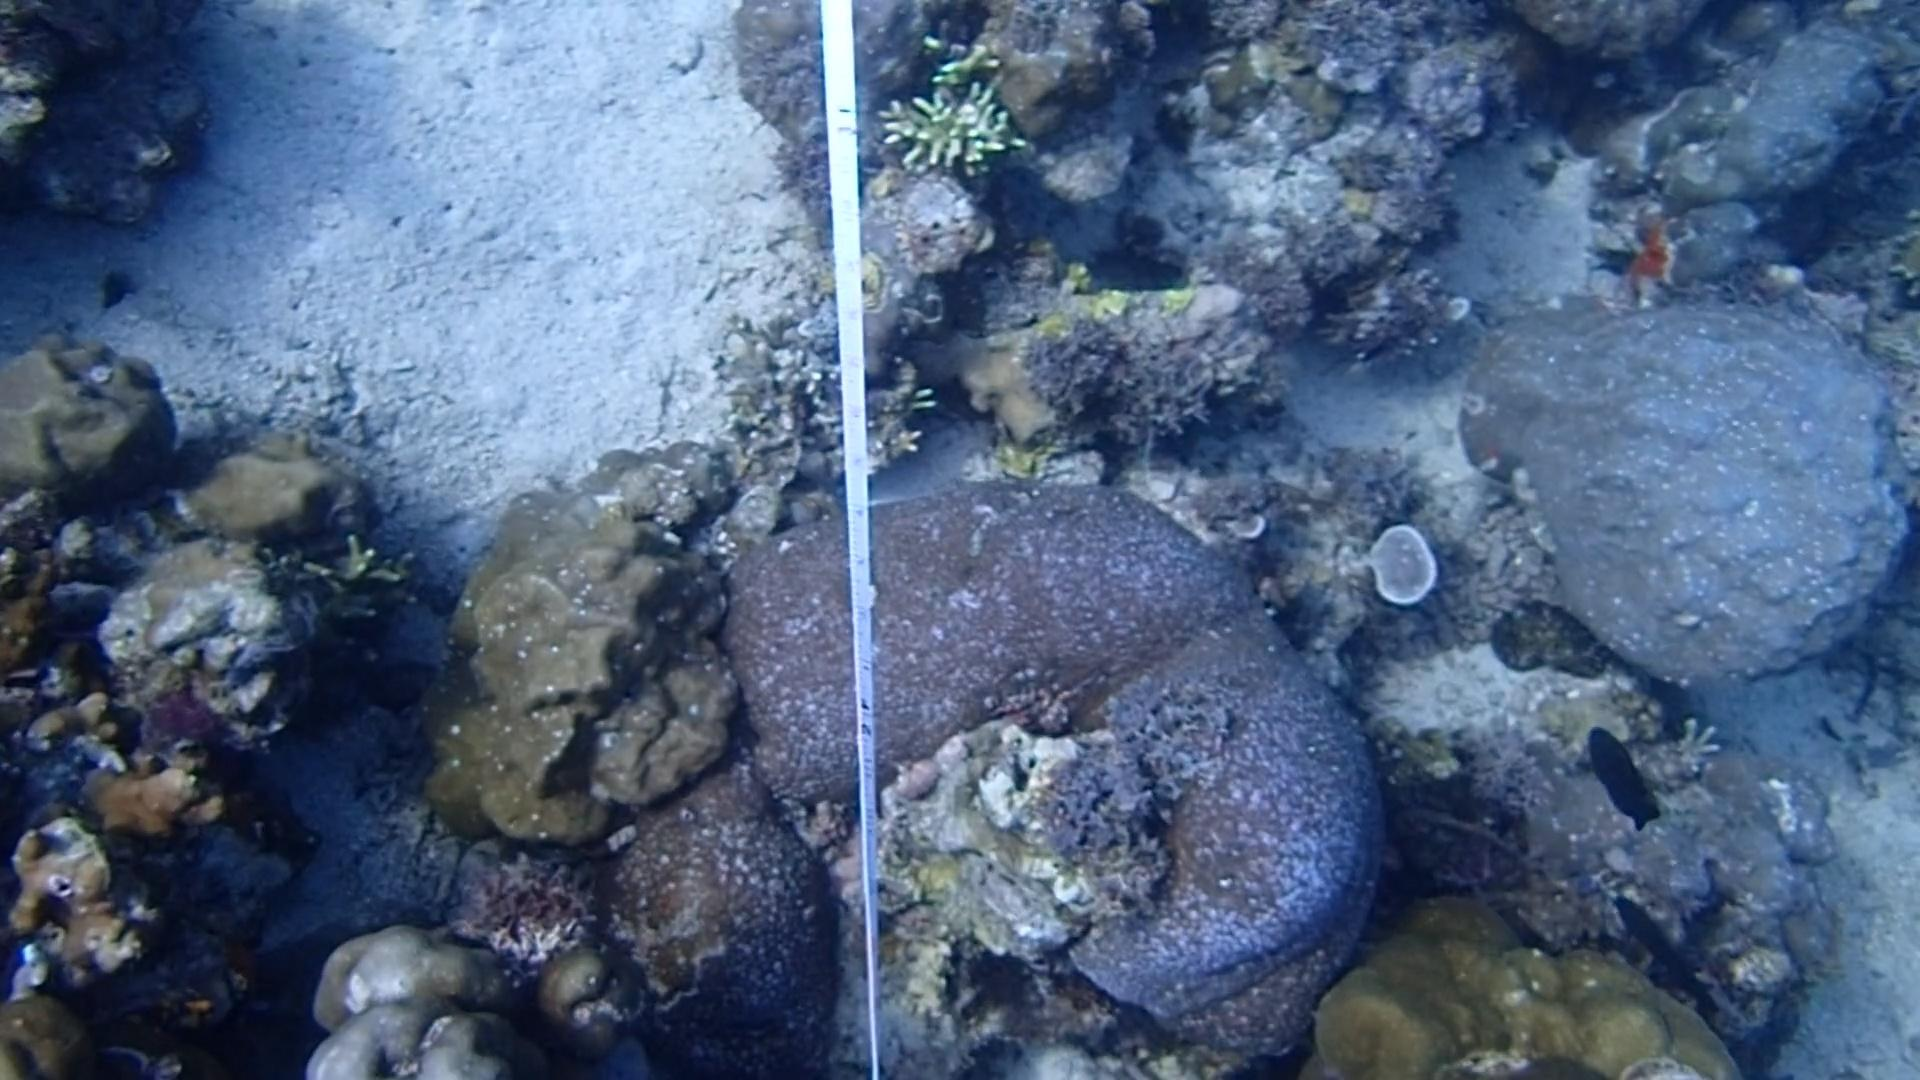Dark Fish: (1580, 708, 1664, 837)
